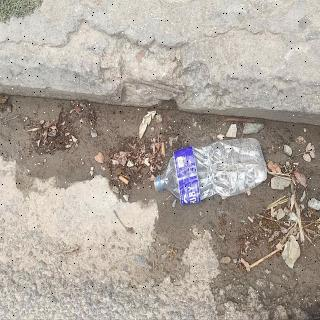Plastic-bottle: (152, 135, 271, 210)
